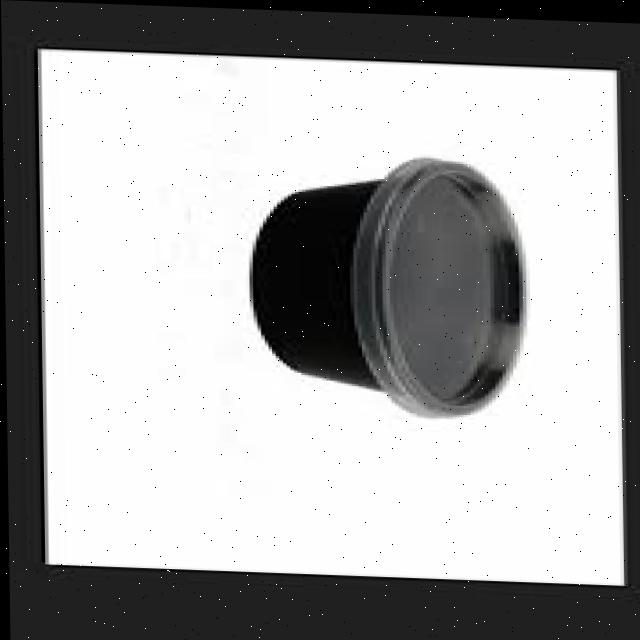disposable: (242, 165, 535, 430)
